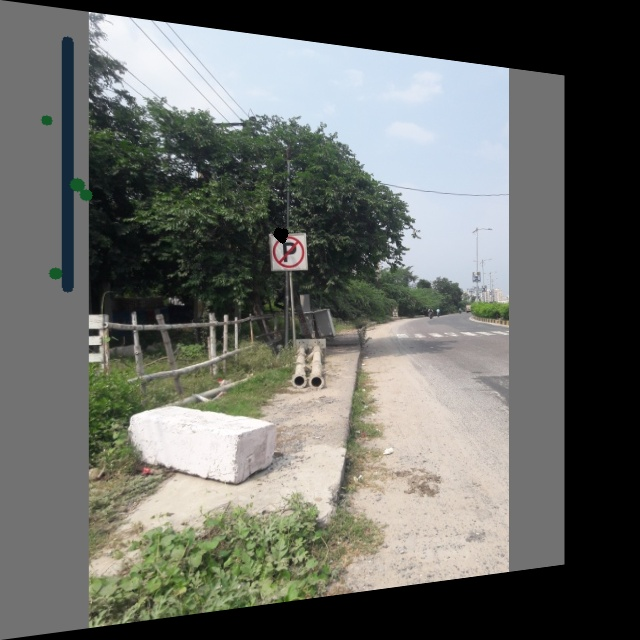No_Parking: (268, 231, 309, 274)
